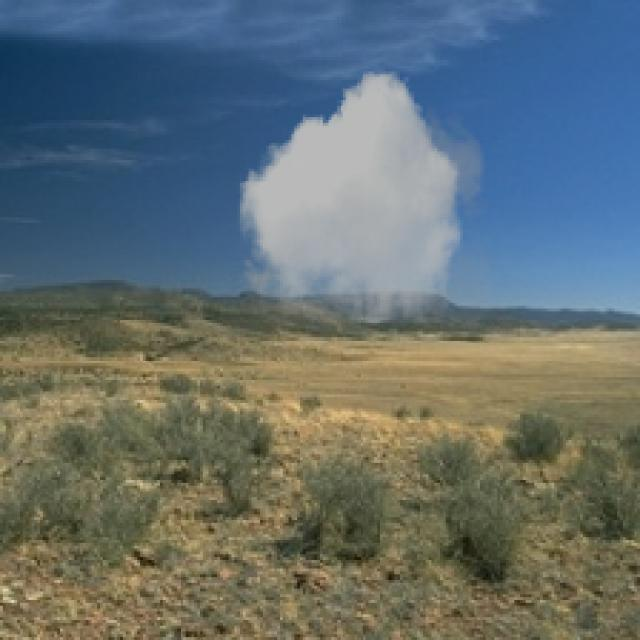Smoke: (234, 71, 492, 323)
